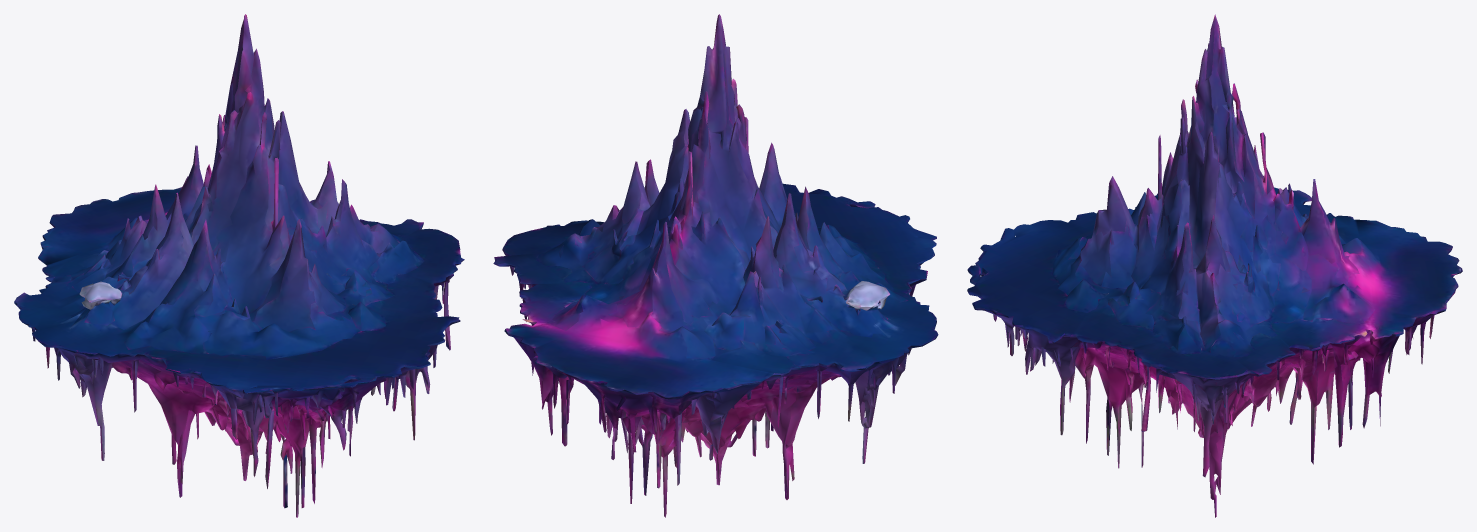
Rendered from outer-shoal-east-generated-2026-05-17T21-05-06-397Z.low.glb.
The picture shows the model from 3 angles, left to right: view 1: azimuth 30°, elevation 25°; view 2: azimuth 150°, elevation 25°; view 3: azimuth 270°, elevation 25°; orthographic projection. The views are drawn at different scales.
Visible parts, largest first — view 1: temp_mesh.ply; view 2: temp_mesh.ply; view 3: temp_mesh.ply.
Part boxes in pixels (<box>): temp_mesh.ply: <box>14,14,464,517</box>; temp_mesh.ply: <box>493,14,938,517</box>; temp_mesh.ply: <box>967,14,1462,517</box>.
Bounding box in the file's own units: 1.85 × 1.98 × 1.95.
Materials: 1 (1 with a texture image).
